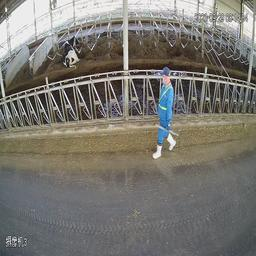cow: (61, 36, 81, 69)
